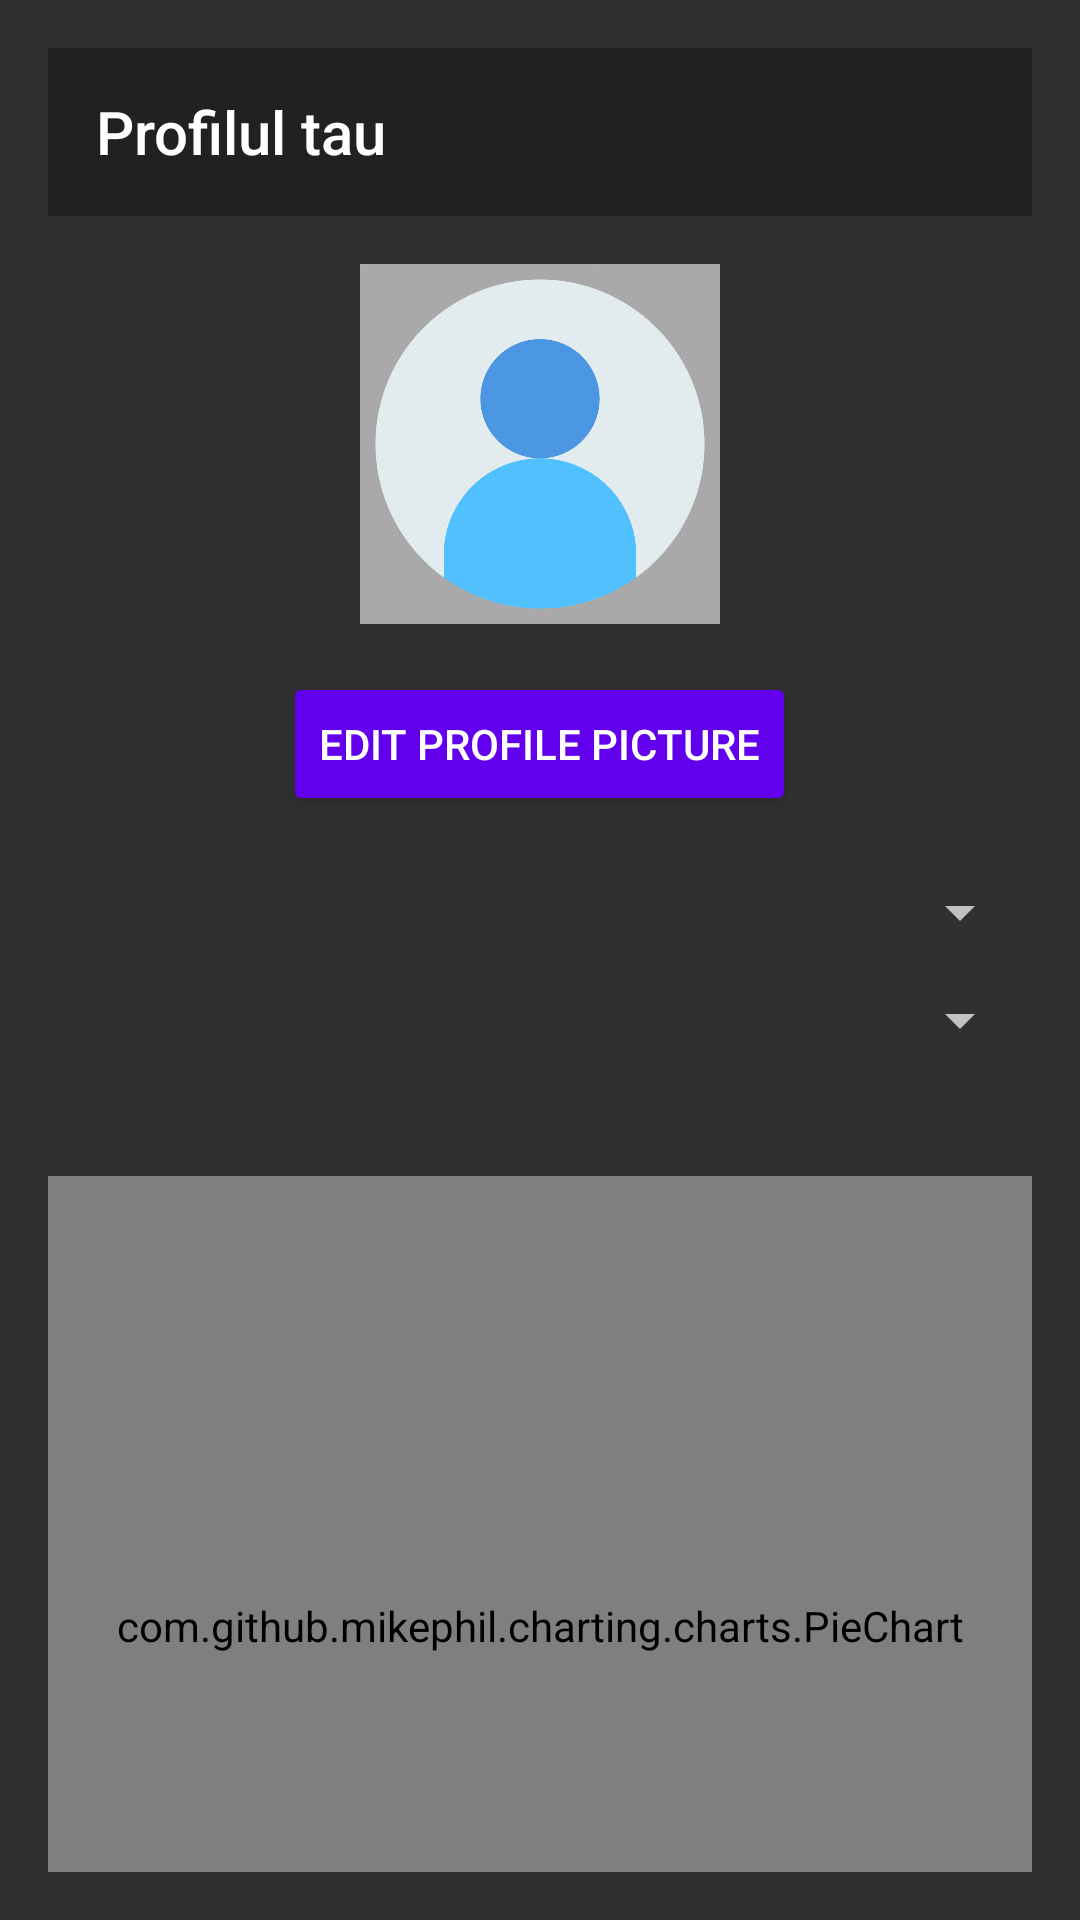

Point at icon controls on the screen. Image size 1080px x 1920px, points as (x=x, y=y).
Current Avatar: (x=540, y=444)
